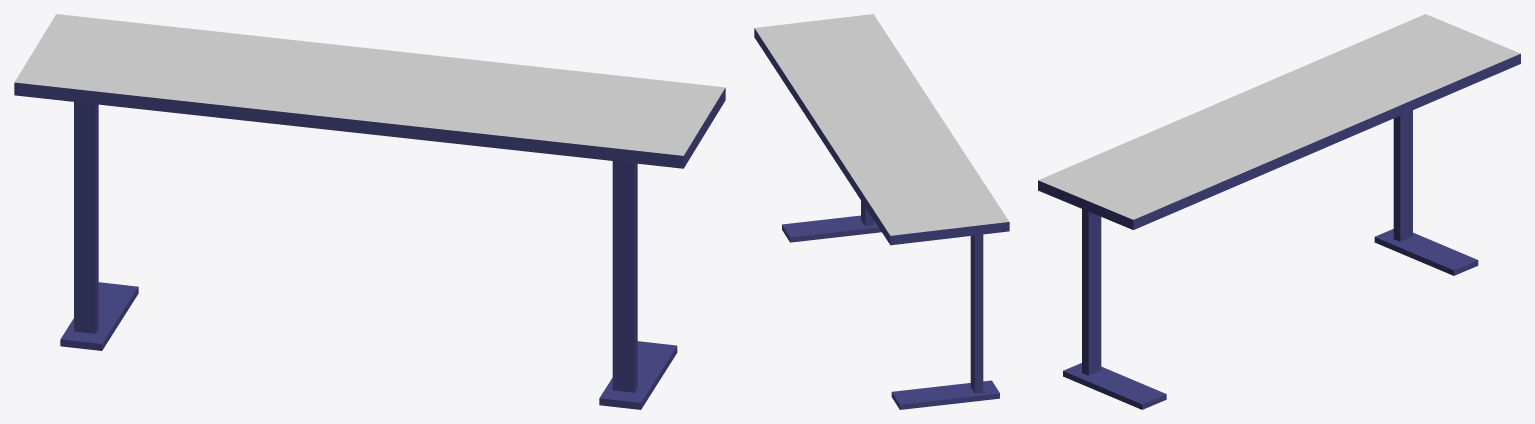
Rendered from A222PetitBancDerrier.fbx.
3 renders of one model, left to right at view 1: azimuth 30°, elevation 25°; view 2: azimuth 150°, elevation 25°; view 3: azimuth 270°, elevation 25°, orthographic. The views are drawn at different scales.
Parts seen in each view (by area): view 1: polySurface23, polySurface27, polySurface25, polySurface24, polySurface26; view 2: polySurface23, polySurface25, polySurface24, polySurface26; view 3: polySurface23, polySurface27, polySurface25, polySurface24, polySurface26.
Part boxes in pixels (left/top/right/bottom): polySurface23: left=14, top=14, right=725, bottom=168; polySurface27: left=612, top=161, right=637, bottom=392; polySurface25: left=74, top=102, right=98, bottom=333; polySurface24: left=60, top=282, right=138, bottom=350; polySurface26: left=599, top=341, right=677, bottom=409; polySurface23: left=754, top=14, right=1009, bottom=245; polySurface25: left=970, top=234, right=983, bottom=393; polySurface24: left=891, top=380, right=999, bottom=409; polySurface26: left=782, top=215, right=881, bottom=242; polySurface23: left=1038, top=14, right=1520, bottom=229; polySurface27: left=1082, top=209, right=1101, bottom=375; polySurface25: left=1393, top=110, right=1412, bottom=241; polySurface24: left=1374, top=229, right=1478, bottom=275; polySurface26: left=1063, top=363, right=1166, bottom=409.
Bounding box in the file's own units: 12.92 × 6.05 × 12.8.
